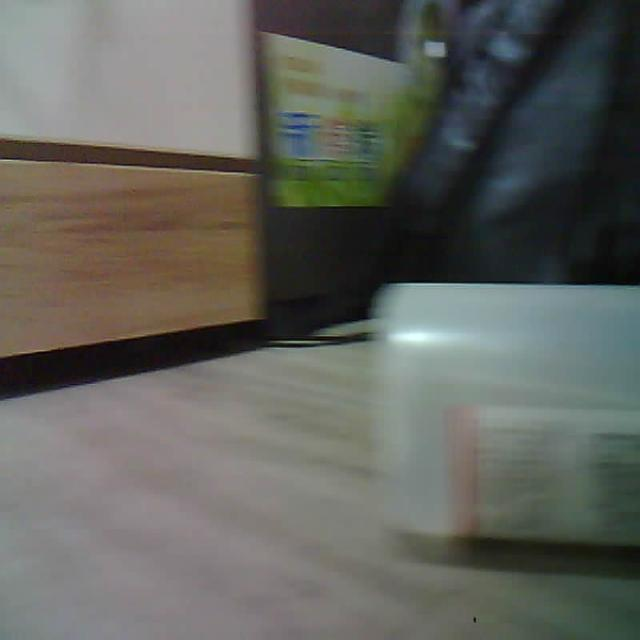bottle: (376, 285, 639, 547)
